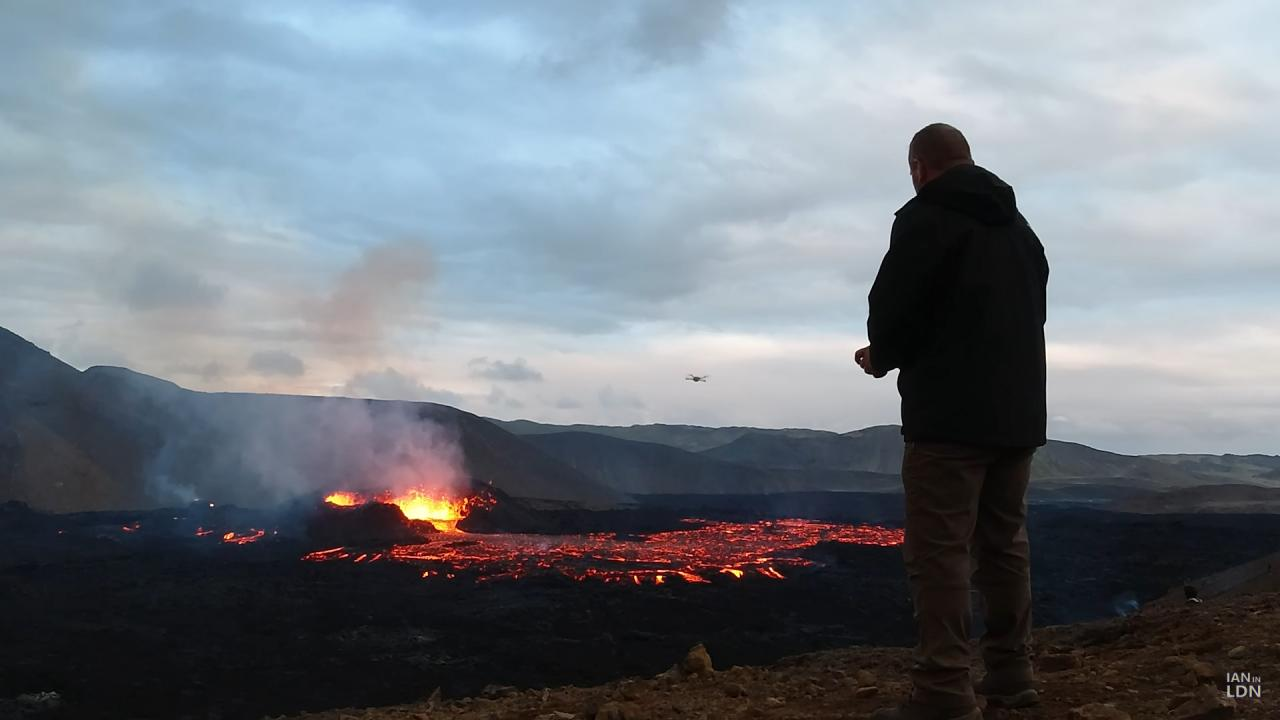Drone: (677, 365, 716, 391)
